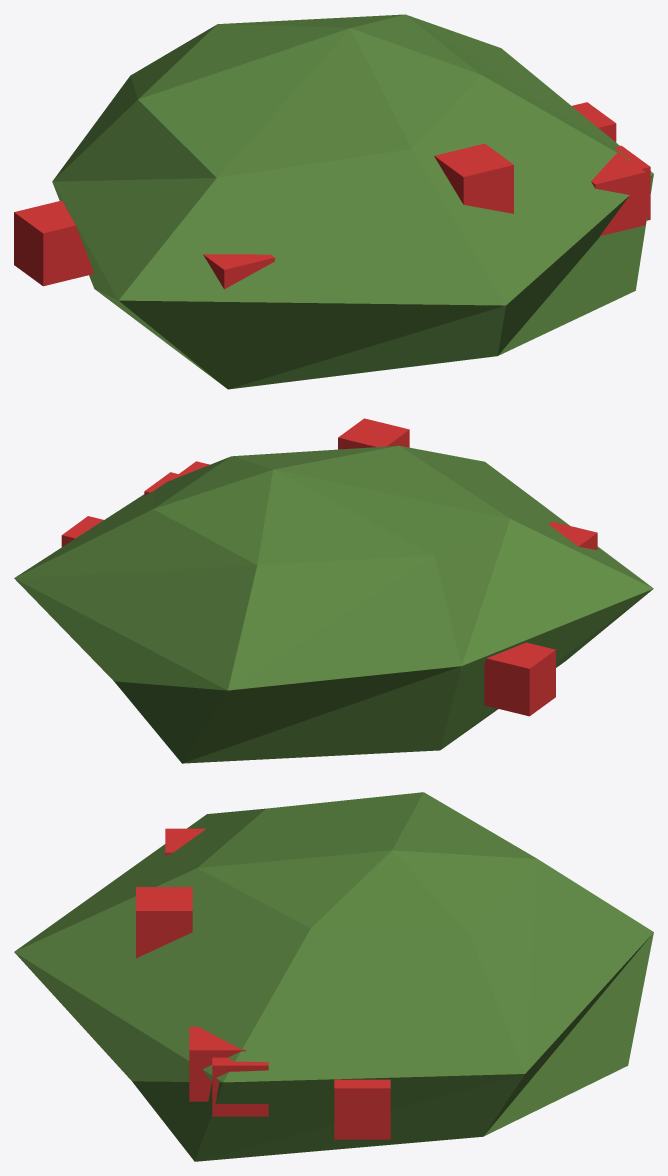
File: strawberry_1.obj
The picture shows the model from 3 angles, top to bottom: view 1: azimuth 30°, elevation 25°; view 2: azimuth 150°, elevation 25°; view 3: azimuth 270°, elevation 25°; orthographic projection. The views are drawn at different scales.
Parts seen in each view (by area): view 1: strawberry_1; view 2: strawberry_1; view 3: strawberry_1.
Boxes of the visible parts, <box> form: strawberry_1: <box>14,14,653,389</box>; strawberry_1: <box>14,418,653,763</box>; strawberry_1: <box>14,792,653,1161</box>.
Bounding box in the file's own units: 0.5578 × 0.22 × 0.5671.
